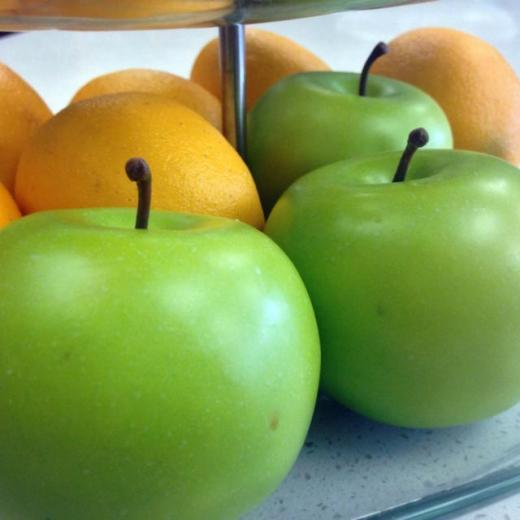Apple: (0, 157, 323, 520), (260, 127, 520, 430), (247, 42, 452, 220)
